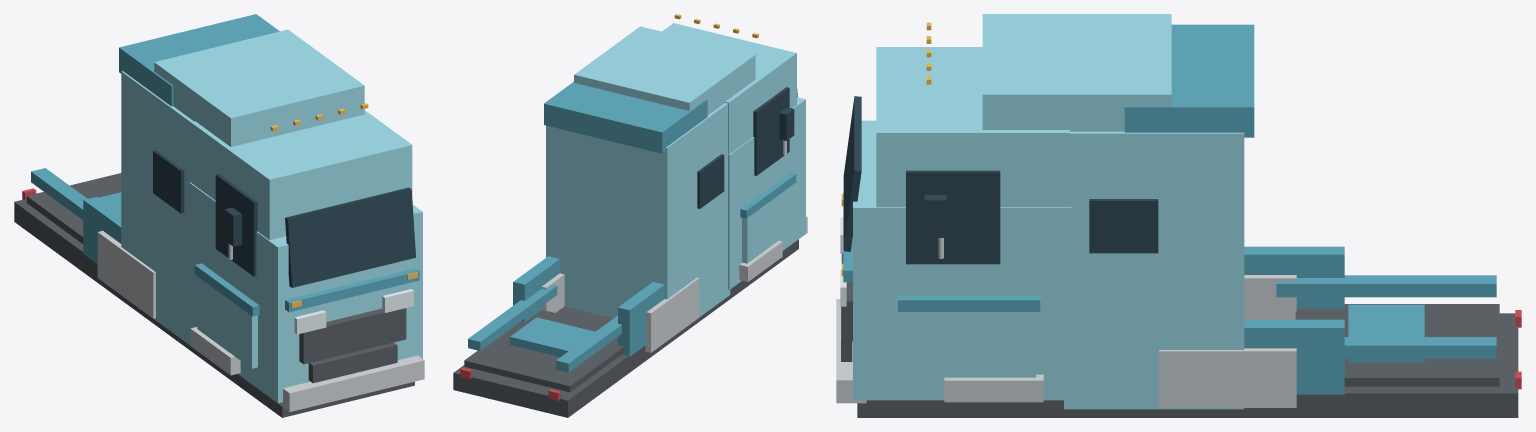
The model's file is cabover_micro.glb.
The picture shows the model from 3 angles, left to right: view 1: azimuth 30°, elevation 25°; view 2: azimuth 150°, elevation 25°; view 3: azimuth 270°, elevation 25°; orthographic projection. The views are drawn at different scales.
Visible parts, largest first — view 1: CabUpper, RoofCap, CabLower, Sleeper, Windshield, RearRoofFairing, ChassisMain, FrontGrille, FrontBumper, Fender_L, Tank_L, WindowLeft (+11 smaller); view 2: Sleeper, RoofCap, RearRoofFairing, ChassisMain, CabLower, RearDeck, CabUpper, Fender_L, Tank_L, WindowLeft, FifthWheel, SideFairing_L (+8 smaller); view 3: Sleeper, CabLower, RoofCap, CabUpper, ChassisMain, RearRoofFairing, Fender_R, Tank_R, WindowRight, RearDeck, SideFairing_R, RearMudguard_L (+11 smaller).
Part boxes in pixels (left/top/right/bottom): CabUpper: left=191, top=110, right=412, bottom=239; RoofCap: left=154, top=29, right=364, bottom=146; CabLower: left=189, top=182, right=422, bottom=403; Sleeper: left=121, top=71, right=193, bottom=345; Windshield: left=285, top=187, right=415, bottom=287; RearRoofFairing: left=119, top=14, right=279, bottom=106; ChassisMain: left=14, top=199, right=414, bottom=417; FrontGrille: left=299, top=308, right=406, bottom=364; FrontBumper: left=278, top=355, right=424, bottom=411; Fender_L: left=197, top=276, right=257, bottom=368; Tank_L: left=97, top=230, right=155, bottom=318; WindowLeft: left=215, top=173, right=257, bottom=276; Sleeper: left=546, top=103, right=730, bottom=318; RoofCap: left=574, top=26, right=755, bottom=115; RearRoofFairing: left=544, top=82, right=707, bottom=153; ChassisMain: left=453, top=239, right=798, bottom=417; CabLower: left=728, top=97, right=805, bottom=289; RearDeck: left=464, top=310, right=624, bottom=392; CabUpper: left=662, top=23, right=796, bottom=154; Fender_L: left=742, top=184, right=794, bottom=263; Tank_L: left=645, top=277, right=699, bottom=352; WindowLeft: left=753, top=87, right=789, bottom=175; FifthWheel: left=510, top=317, right=594, bottom=357; SideFairing_L: left=618, top=282, right=664, bottom=356; Sleeper: left=1064, top=131, right=1244, bottom=409; CabLower: left=853, top=120, right=1070, bottom=400; RoofCap: left=982, top=14, right=1171, bottom=131; CabUpper: left=876, top=47, right=1069, bottom=207; ChassisMain: left=857, top=313, right=1518, bottom=417; RearRoofFairing: left=1124, top=24, right=1254, bottom=137; Fender_R: left=902, top=312, right=1036, bottom=377; Tank_R: left=1159, top=348, right=1296, bottom=407; WindowRight: left=906, top=170, right=1000, bottom=264; RearDeck: left=1295, top=304, right=1499, bottom=386; SideFairing_R: left=1244, top=319, right=1344, bottom=394; RearMudguard_L: left=1276, top=275, right=1496, bottom=297.
Bounding box in the file's own units: 3.13 × 4.5 × 8.56.
